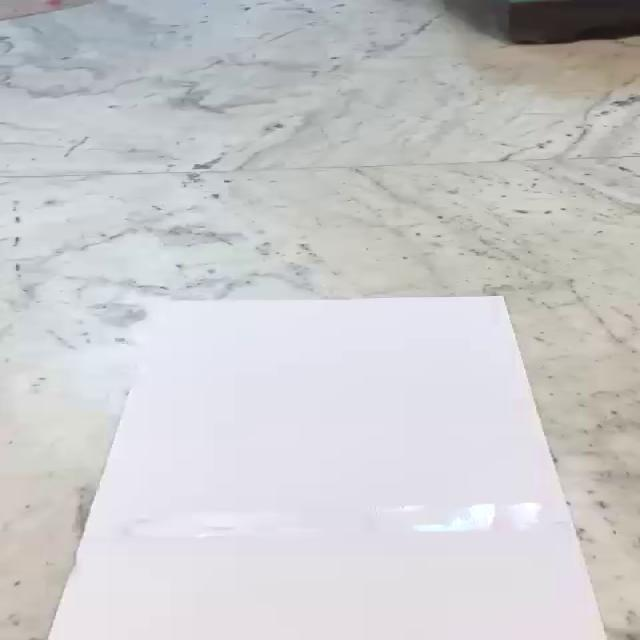road: (45, 296, 609, 640)
